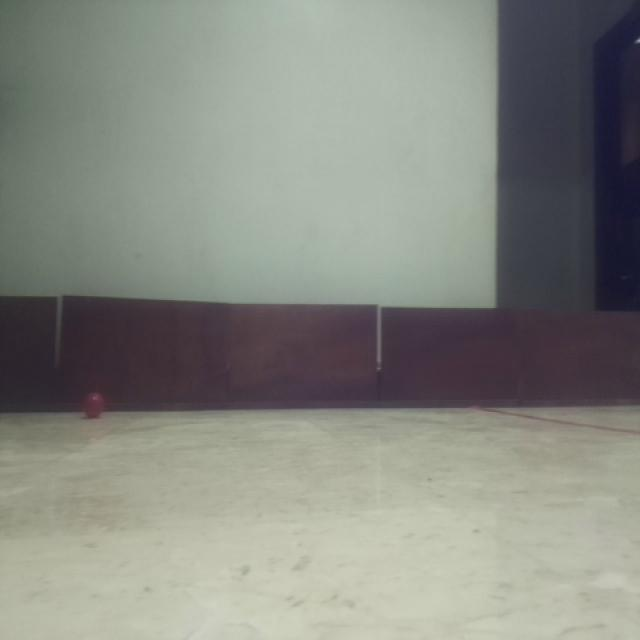ball: (81, 388, 106, 418)
